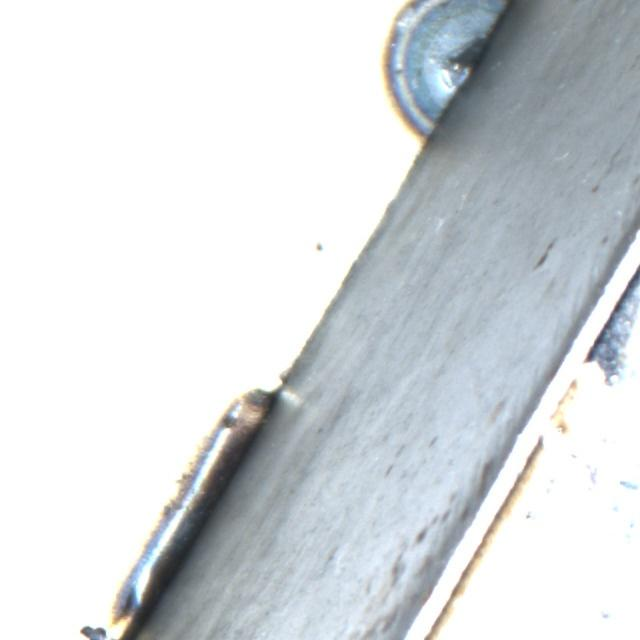tool_b: (51, 596, 143, 640)
